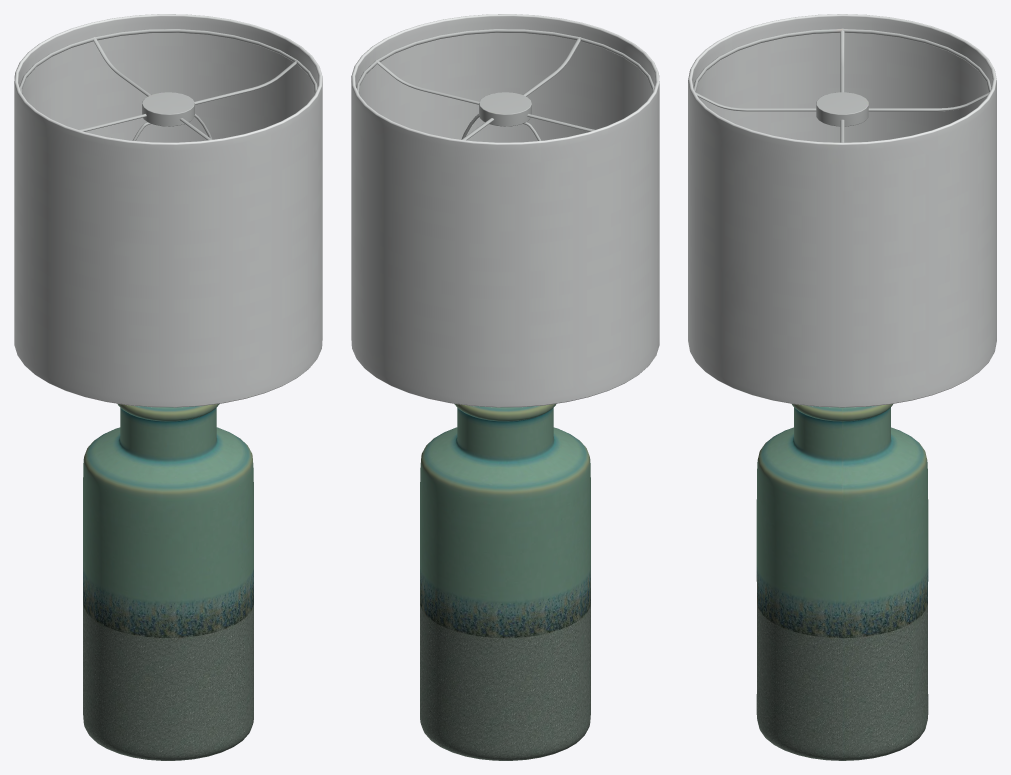
Rendered from abo-B07MF1RNZ7.glb.
3 views of the same model, side by side, from view 1: azimuth 30°, elevation 25°; view 2: azimuth 150°, elevation 25°; view 3: azimuth 270°, elevation 25° (orthographic).
Bounding box in the file's own units: 0.212 × 0.493 × 0.212.
1 material, 1 textured.
